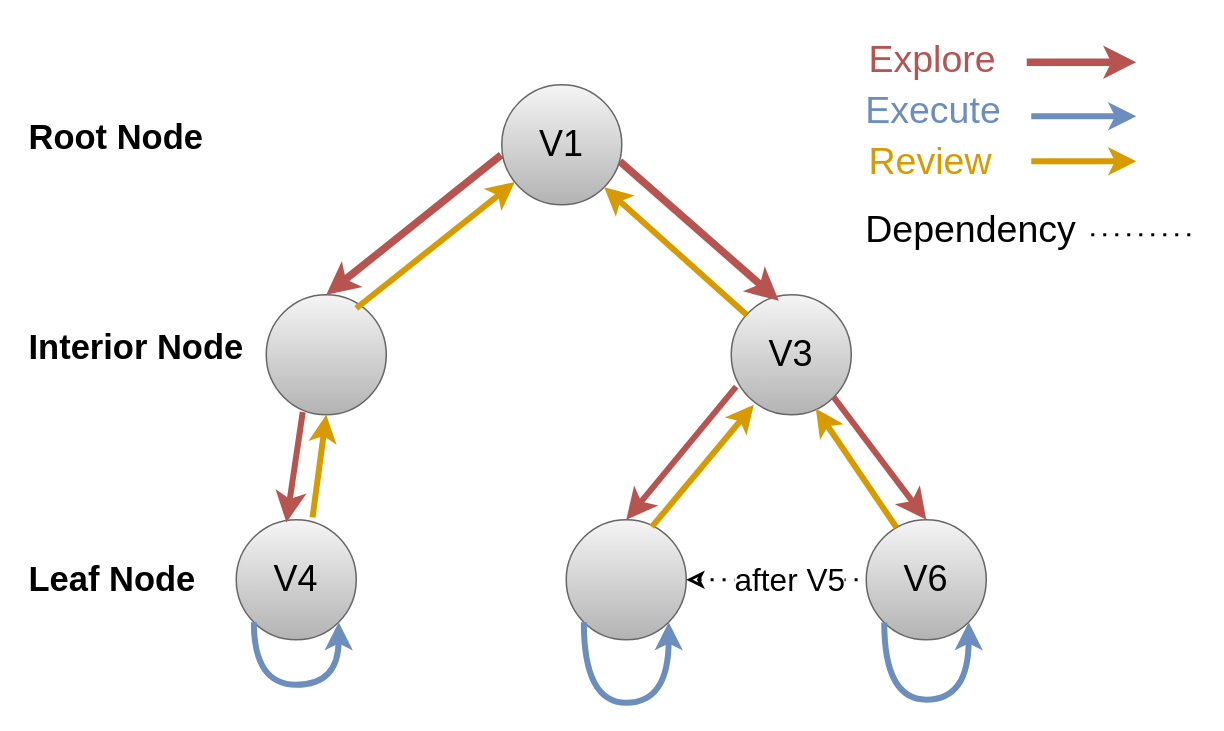
The diagram is 1224 pixels wide and 731 high, and some of its shapes have lost their labels. Here are the shapes that lost their labels. From the top down, the box of each, then its label:
(265, 293, 386, 415): V2
(565, 518, 686, 640): V5
